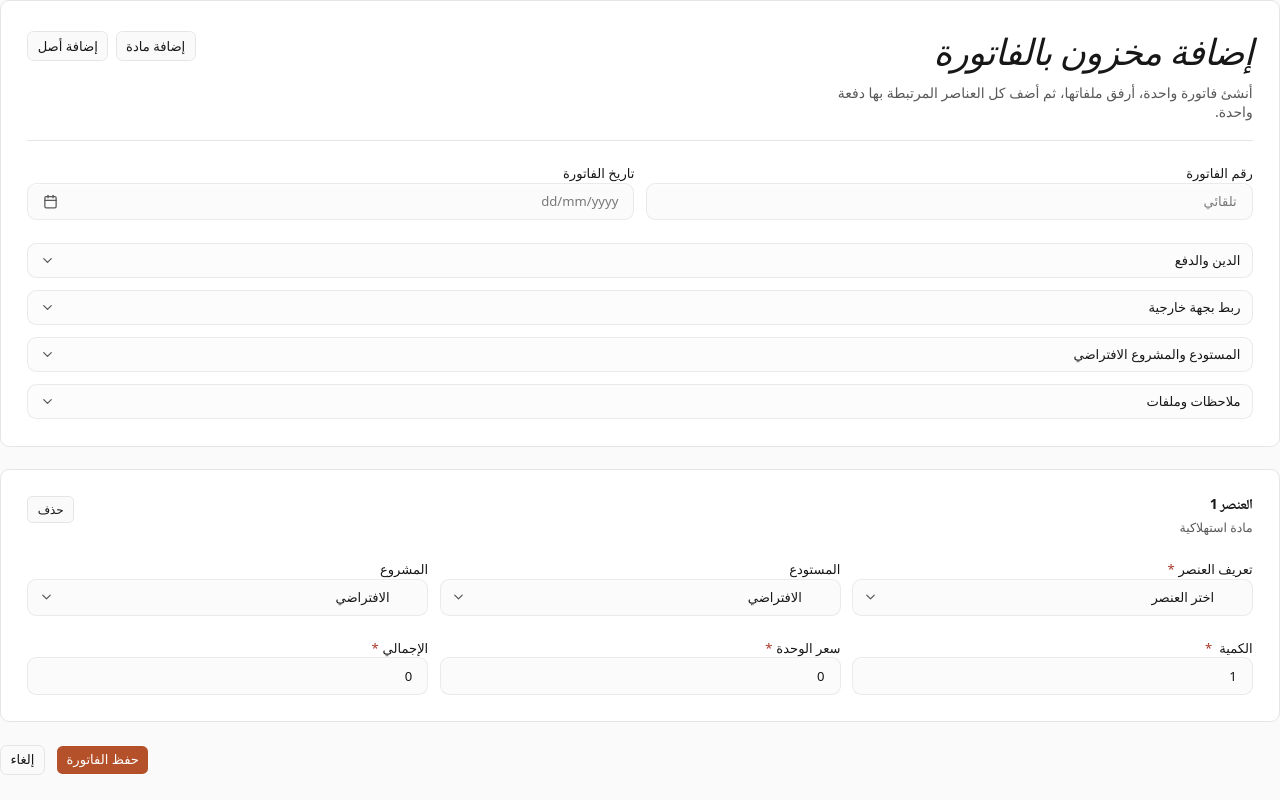
Test: InventoryInvoiceCreatePage progressive disclosure (issue #25) › reveals the default warehouse/project fields only after opening their section
Expected: the text "المستودع الافتراضي" is not shown
Click the button "المستودع والمشروع الافتراضي".
click(1157, 354)  # box [28,338,1252,372]
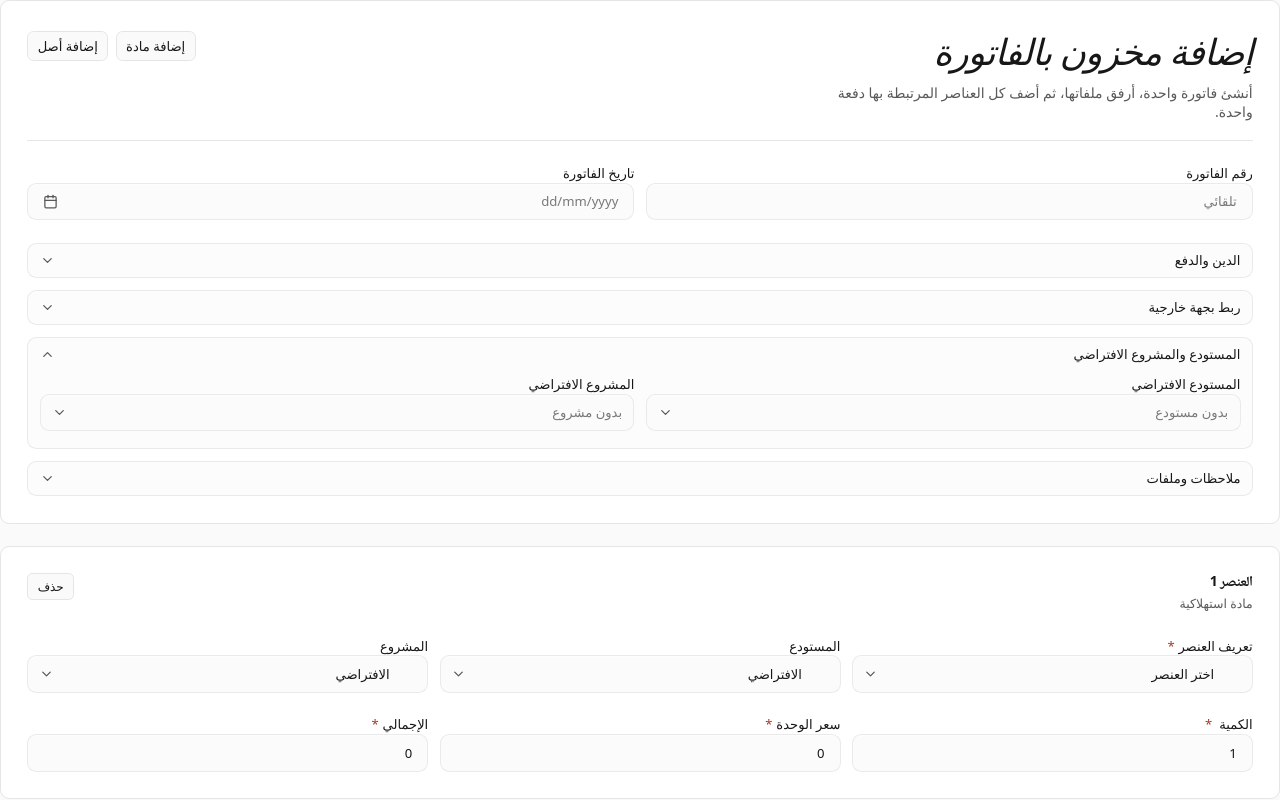
Now the button "المستودع والمشروع الافتراضي" is expanded, box [28,338,1252,372]
Now the text "المستودع الافتراضي" is shown, box [1132,375,1240,393]
Now the text "المشروع الافتراضي" is shown, box [528,375,634,393]
